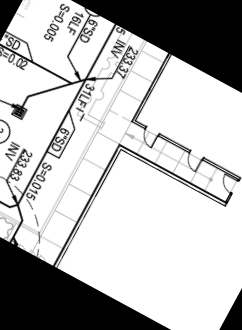door: (180, 150, 205, 176), (137, 125, 162, 150), (216, 171, 241, 195)
